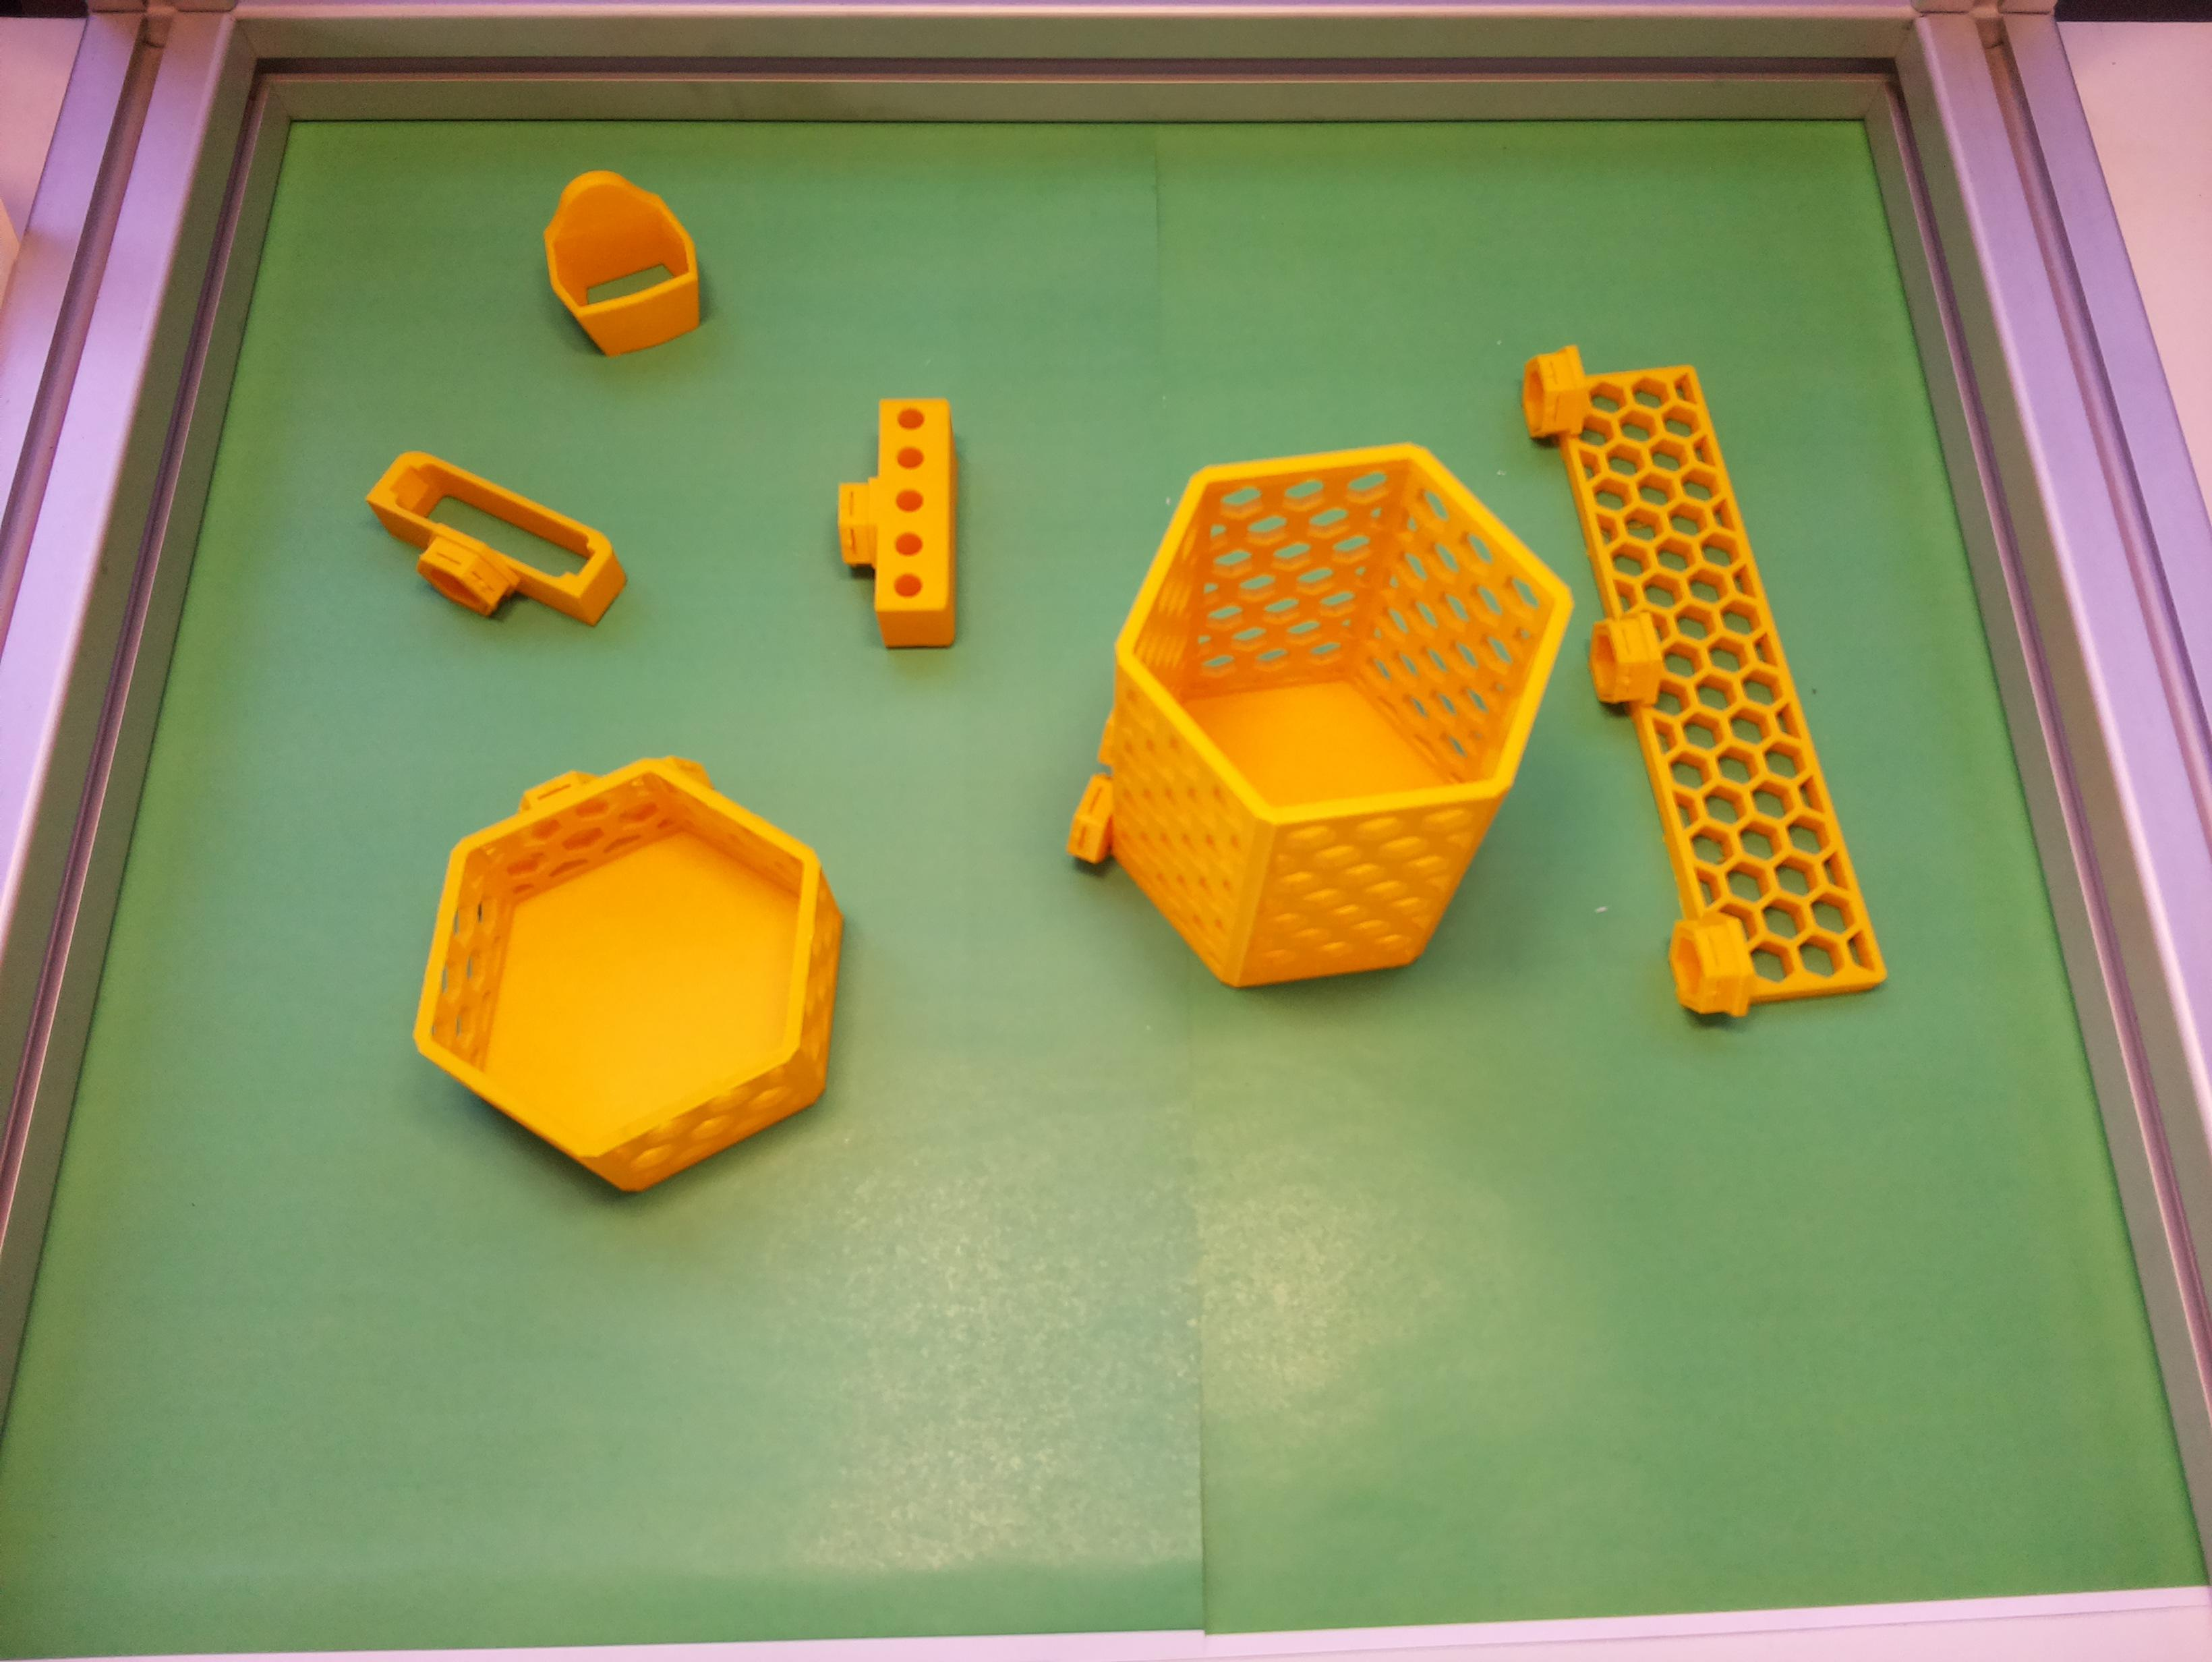bit_holder: (836, 398, 958, 649)
bottle_holder: (346, 679, 934, 1257)
cup_holder: (1006, 367, 1622, 1056)
cutter_holder: (342, 438, 639, 663)
scissor_holder: (517, 145, 725, 374)
tool_holder: (1480, 312, 1891, 1046)
